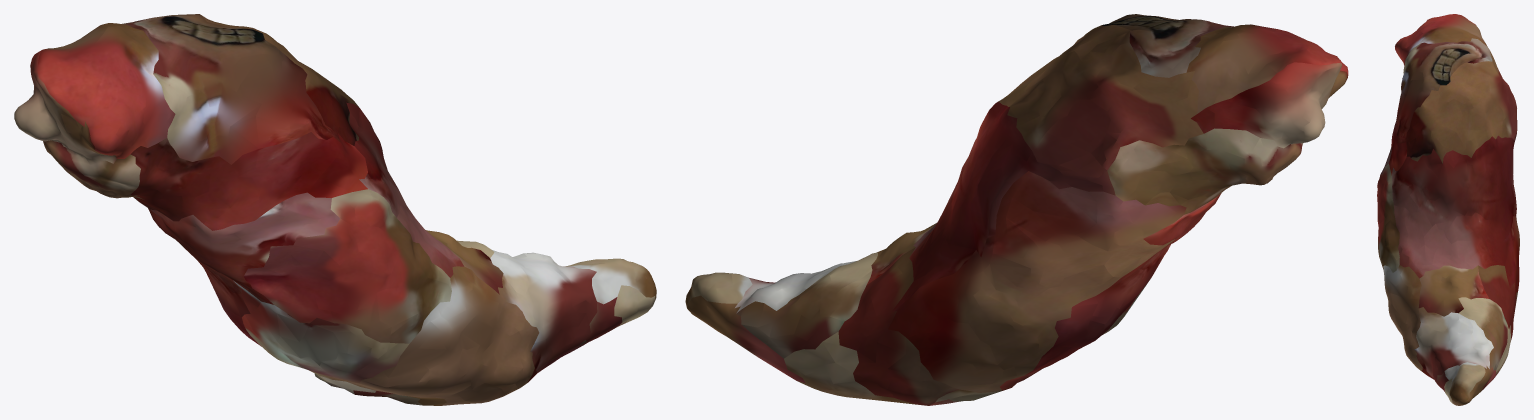
Rendered from yamEsacpe_YamWalk_0013_yamWalk02.fbx.
3 renders of one model, left to right at view 1: azimuth 30°, elevation 25°; view 2: azimuth 150°, elevation 25°; view 3: azimuth 270°, elevation 25°, orthographic. The views are drawn at different scales.
Visible parts, largest first — view 1: YamWalk_0013_yamWalk02; view 2: YamWalk_0013_yamWalk02; view 3: YamWalk_0013_yamWalk02.
Part boxes in pixels (x1,y1,x2,y2): YamWalk_0013_yamWalk02: [14, 14, 656, 405]; YamWalk_0013_yamWalk02: [685, 14, 1348, 405]; YamWalk_0013_yamWalk02: [1377, 14, 1519, 405].
Size of the model in its own units: 0.0985 by 0.0648 by 0.034.
